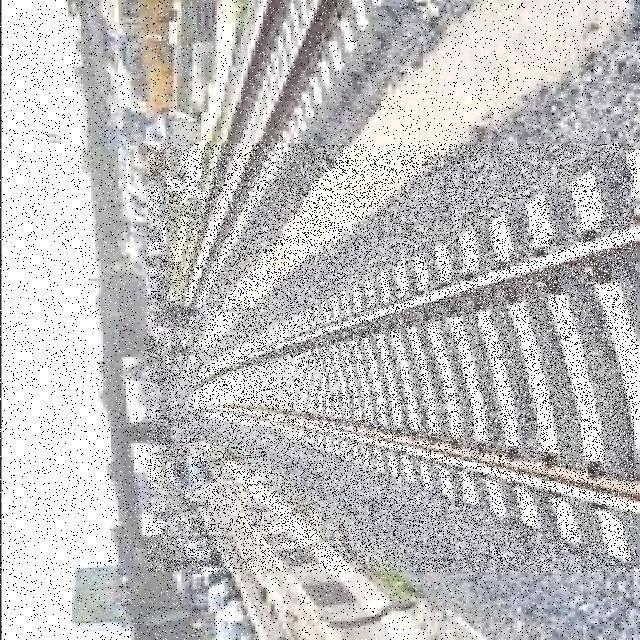rail: (148, 145, 638, 573), (172, 1, 401, 320)
